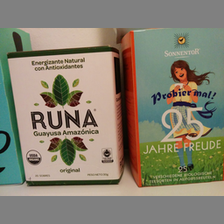tea: (7, 45, 124, 187), (121, 29, 223, 187)
